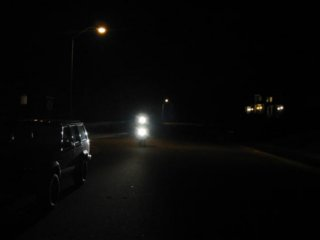car: (9, 114, 94, 213)
